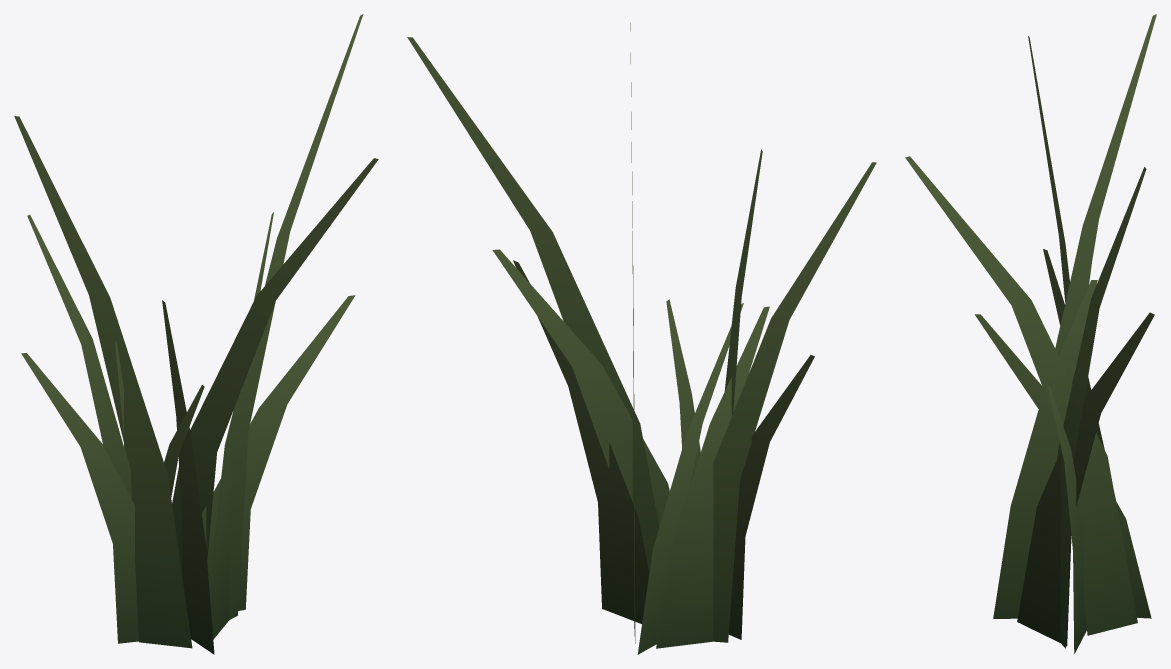
Rendered from grass.glb.
The picture shows the model from 3 angles, left to right: view 1: azimuth 30°, elevation 25°; view 2: azimuth 150°, elevation 25°; view 3: azimuth 270°, elevation 25°; orthographic projection. The views are drawn at different scales.
Visible parts, largest first — view 1: part_0; view 2: part_0; view 3: part_0.
Part boxes in pixels (x1,y1,x2,y2): part_0: (14,14,378,654); part_0: (407,23,876,654); part_0: (905,14,1156,653).
Bounding box in the file's own units: 0.3587 × 0.4664 × 0.1887.
